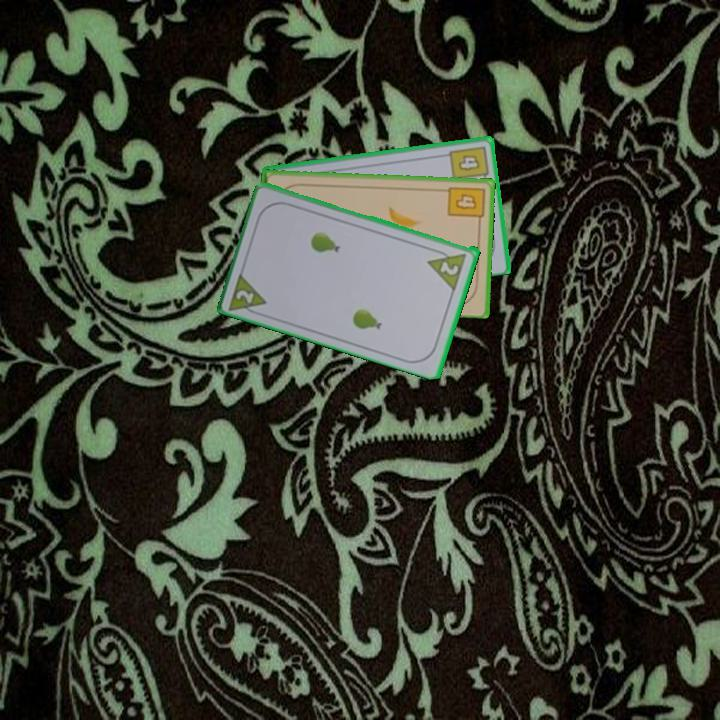2p: (437, 257, 462, 278), (232, 286, 257, 306)
4b: (446, 142, 491, 185), (444, 183, 487, 227)
